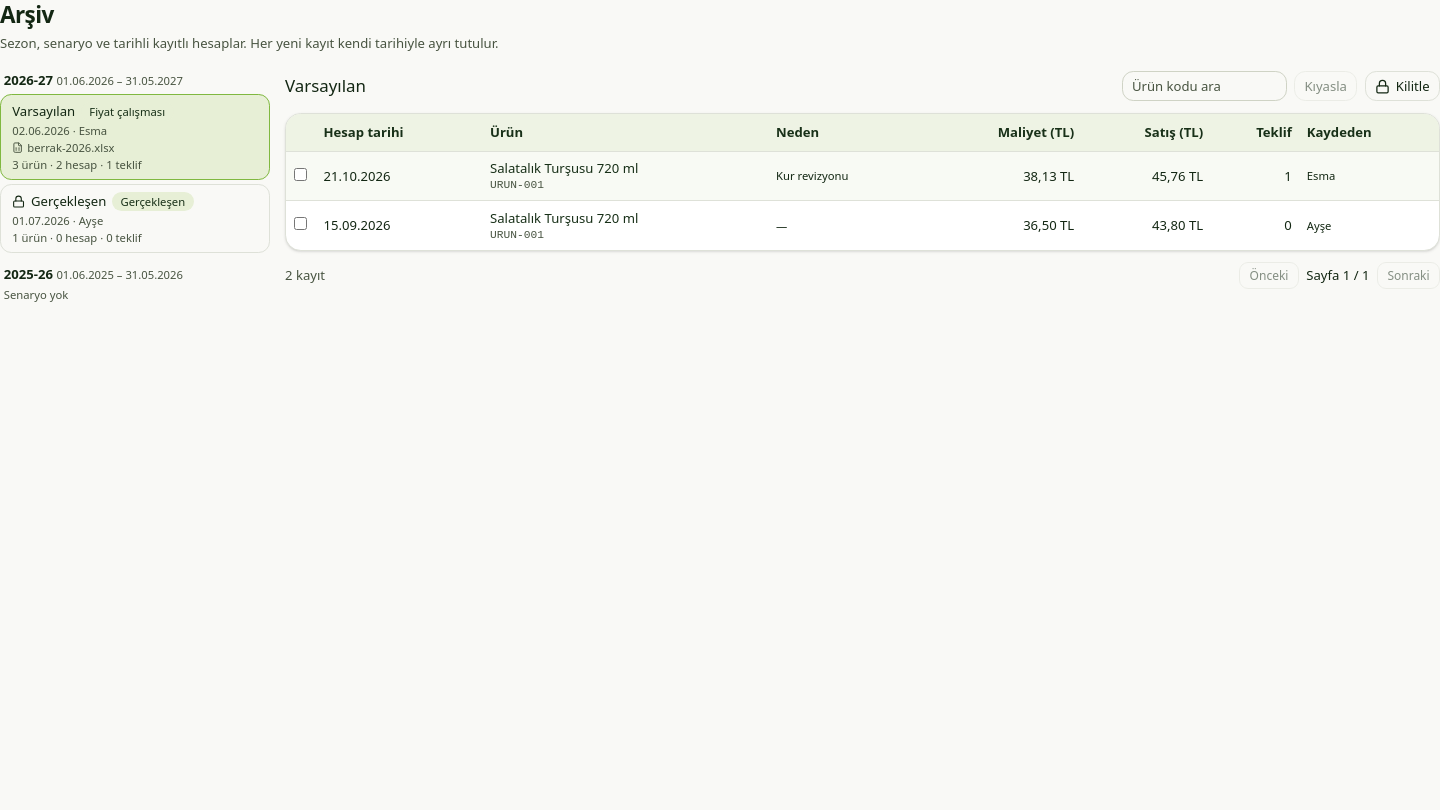
Arşiv › iki satır seçilince Kıyasla açılır; yan yana kart Decimal farklarıyla gelir
The width and height of the screenshot is (1440, 810).
Expected: the button "Kıyasla" is disabled, [1294,71,1357,101]
Click the checkbox named "Kıyas için seç URUN-001 2026-10-21" at coordinates (300, 174), box [294,168,306,180]
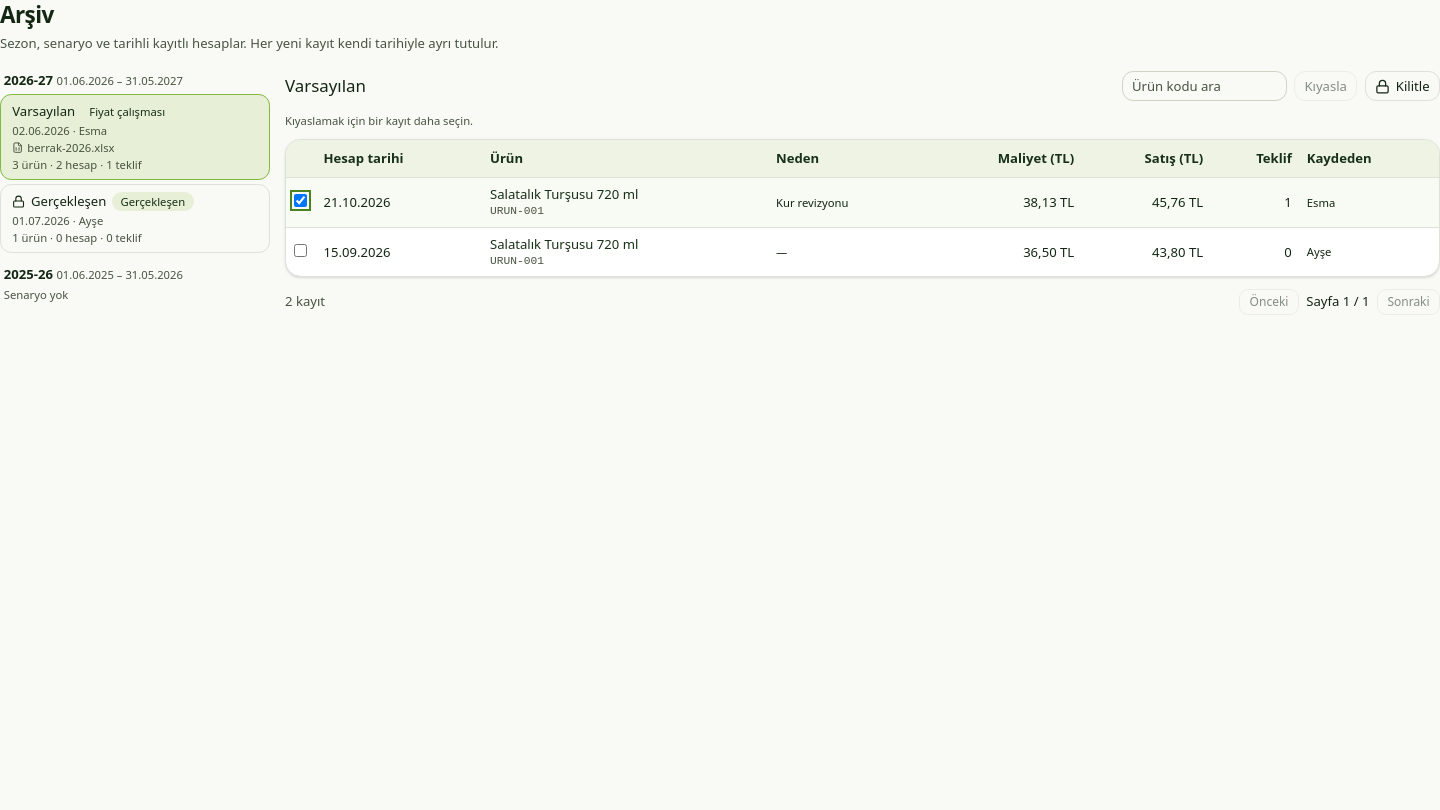
Expected: the button "Kıyasla" is disabled, [1294,71,1357,101]
Expected: the text "Kıyaslamak için bir kayıt daha seçin." is shown, [285,112,473,128]
Click the checkbox named "Kıyas için seç URUN-001 2026-09-15" at coordinates (300, 250), box [294,244,306,256]
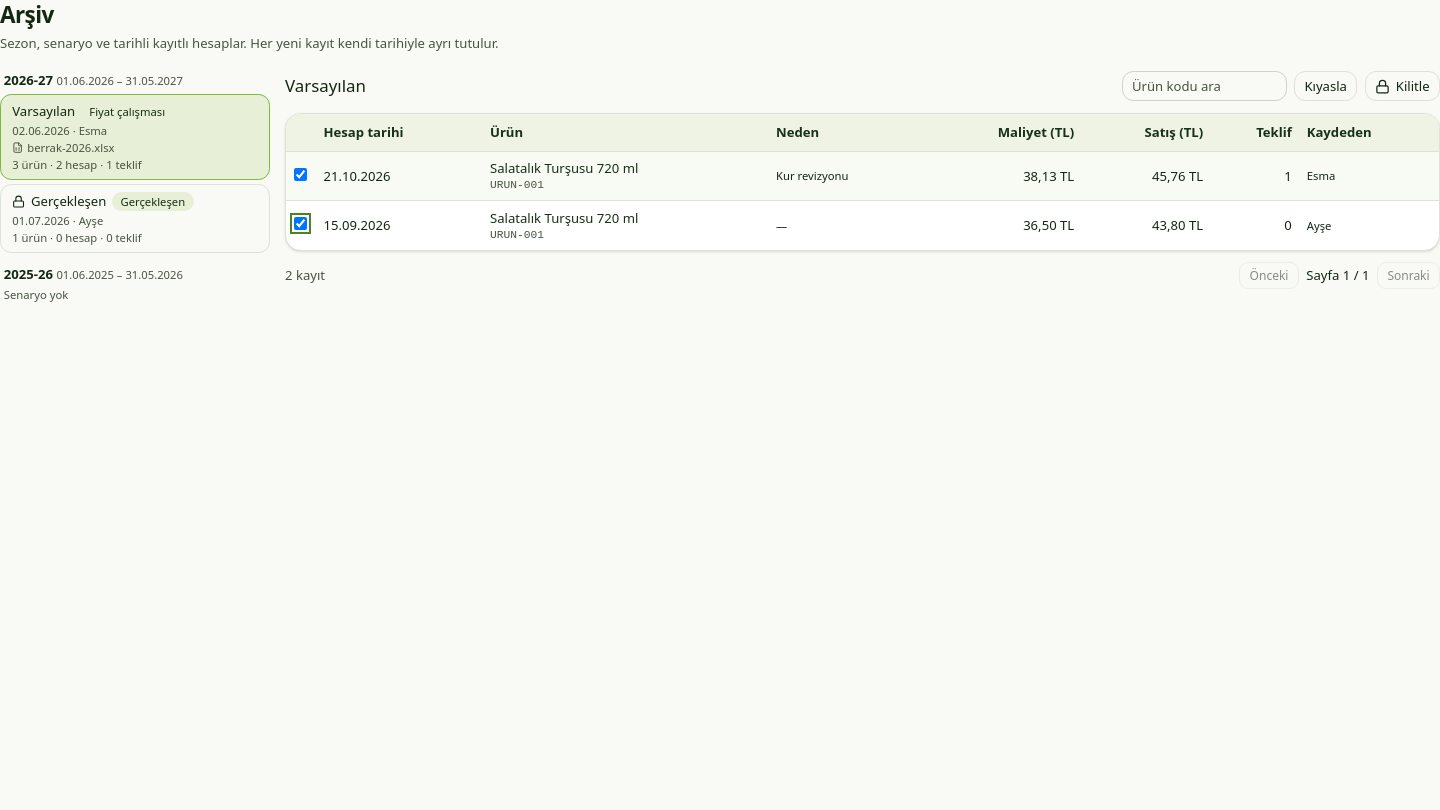
Expected: the button "Kıyasla" is enabled
Click the button "Kıyasla" at coordinates (1326, 86), box [1294,71,1357,101]
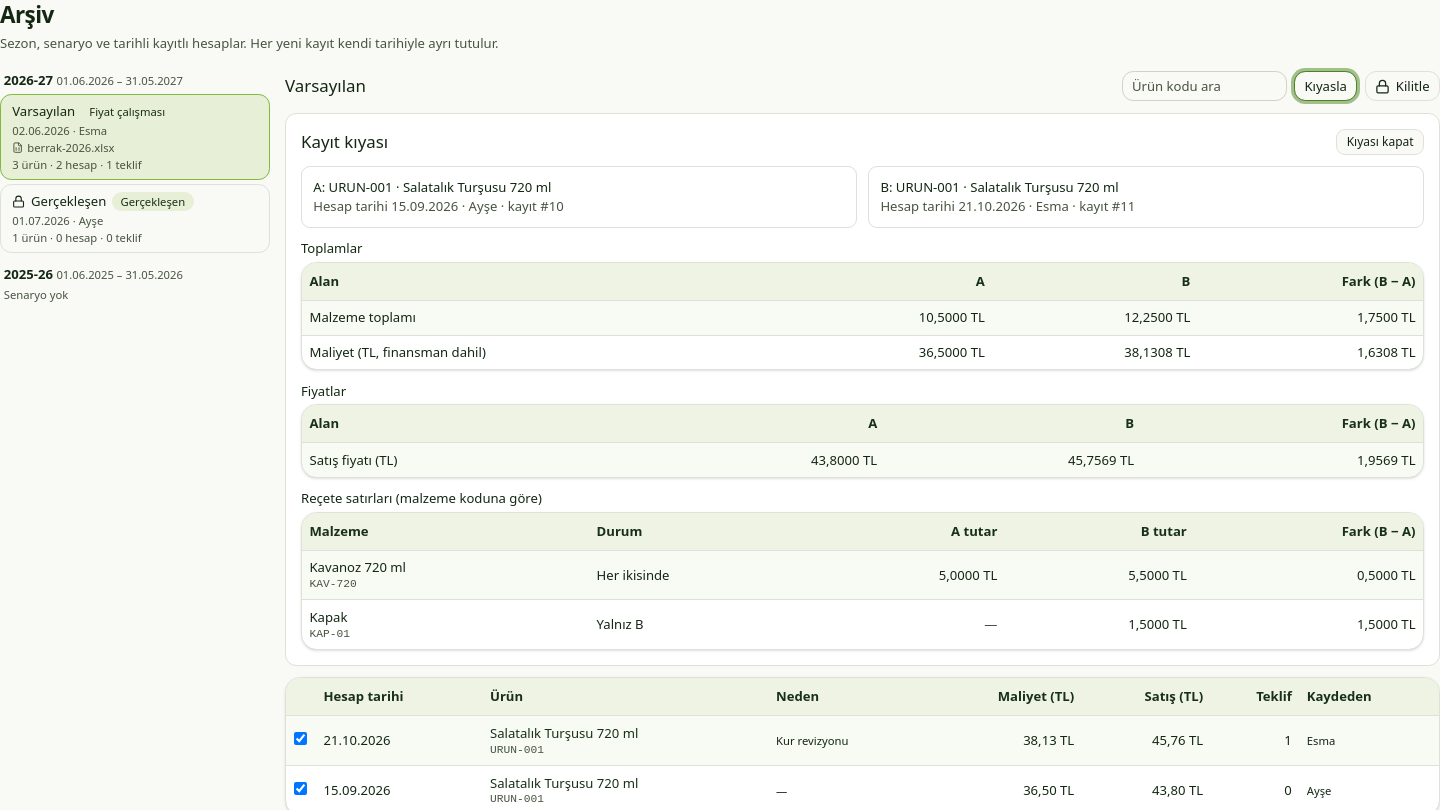
Expected: the text "Malzeme toplamı" is shown, [302,300,787,335]
Expected: the text "1,7500 TL" is shown, [1357,308,1416,326]
Expected: the text "1,6308 TL" is shown, [1357,343,1416,361]
